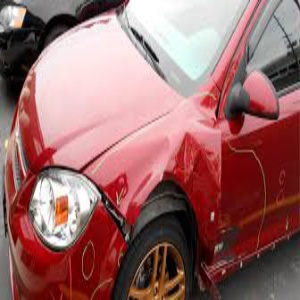bumper: (98, 179, 146, 240)
